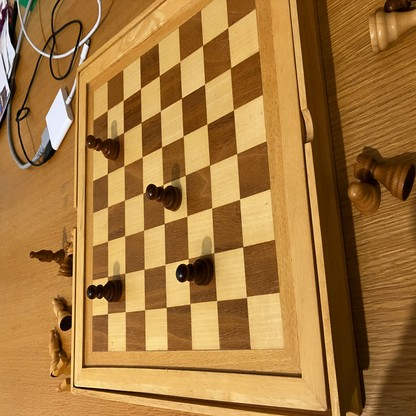bishop_black: (29, 249, 64, 265)
bishop_white: (50, 331, 61, 377)
knight_white: (52, 357, 72, 376), (56, 379, 72, 393)
pawn_black: (176, 259, 214, 286), (146, 184, 181, 210), (86, 134, 119, 161), (86, 279, 122, 303)
pawn_white: (347, 184, 381, 214)
queen_white: (52, 297, 72, 332)
rock_black: (355, 154, 415, 200)
